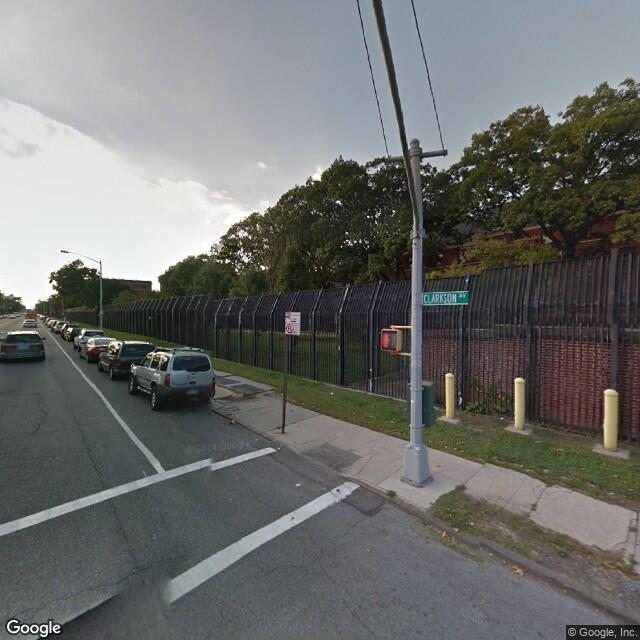litter: (225, 416, 238, 427), (293, 481, 302, 488), (497, 415, 506, 419), (330, 389, 334, 394)
